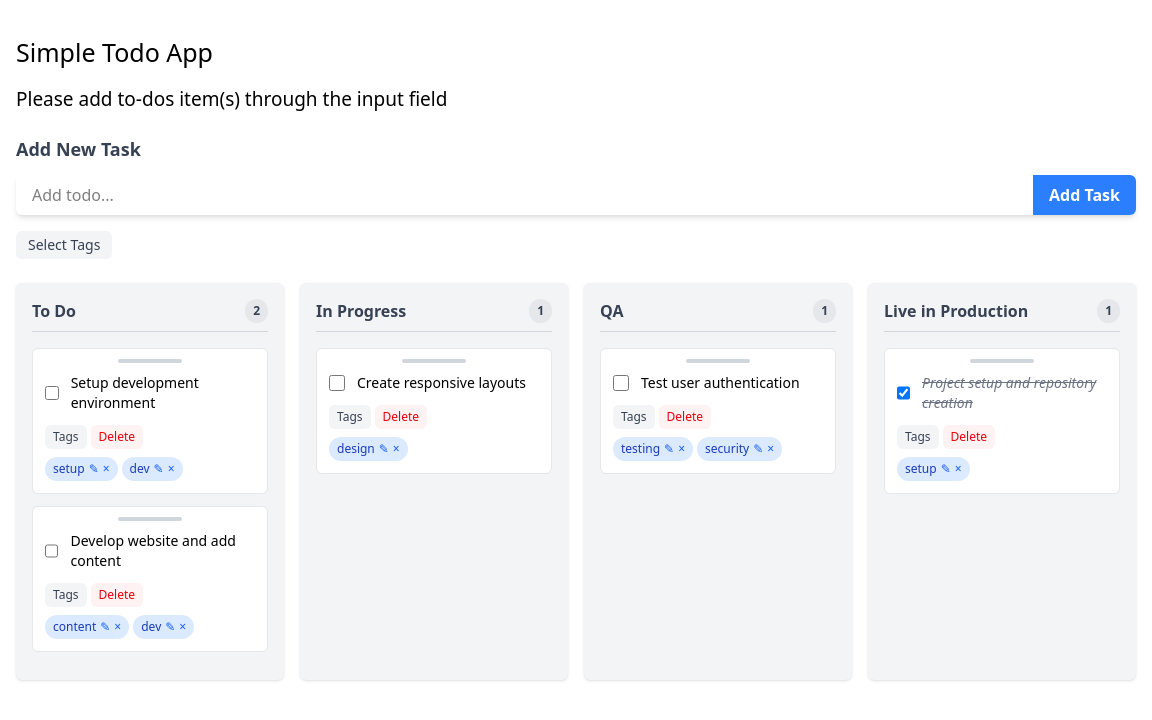
Scenario: Todo Kanban Board › should add a new tag to an existing task
Type "Task For Tag Testing" into the field with placeholder "Add todo...".
click(525, 195); type("Task For Tag Testing")  # box [16,175,1033,215]
Click the button "Add Task".
click(1085, 195)  # box [1033,175,1136,215]
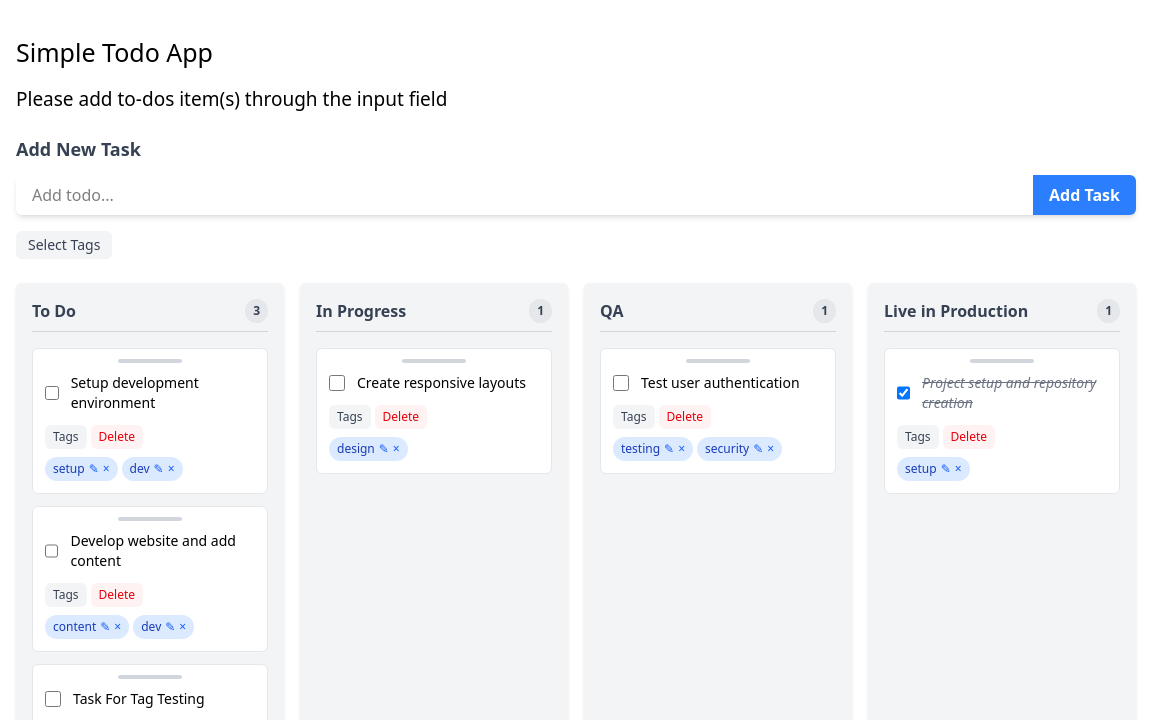
Scroll
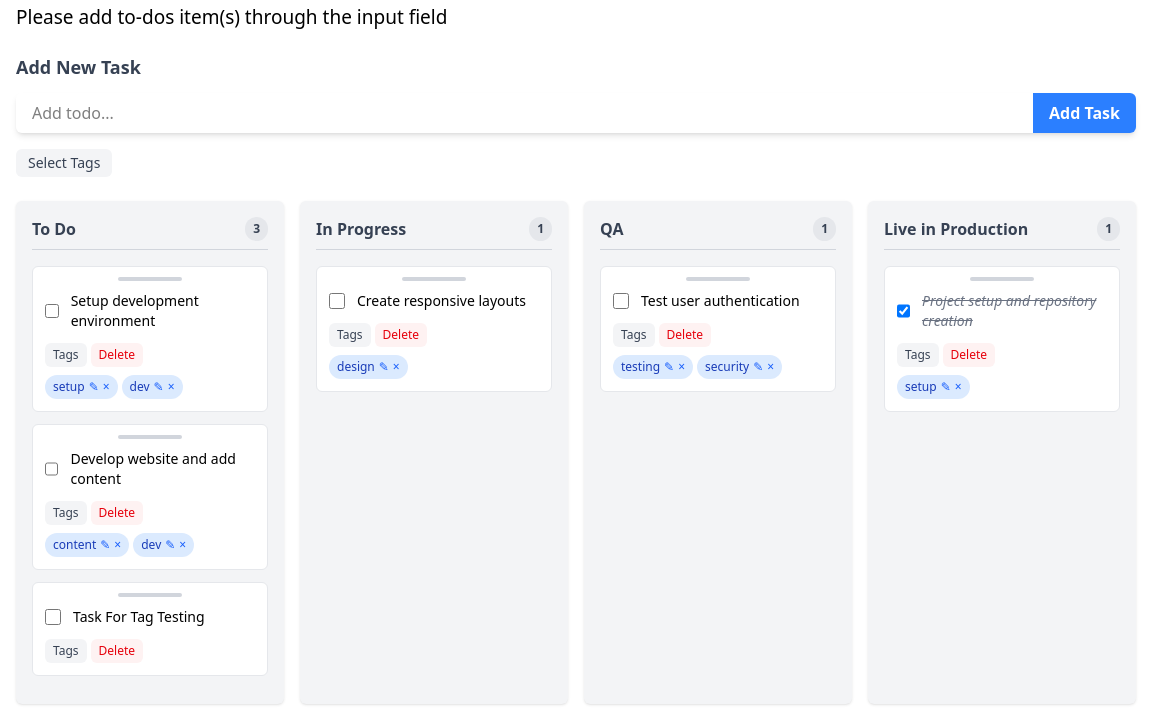
Click the button "Tags" below "Task For Tag Testing".
click(66, 651)  # box [45,639,87,663]
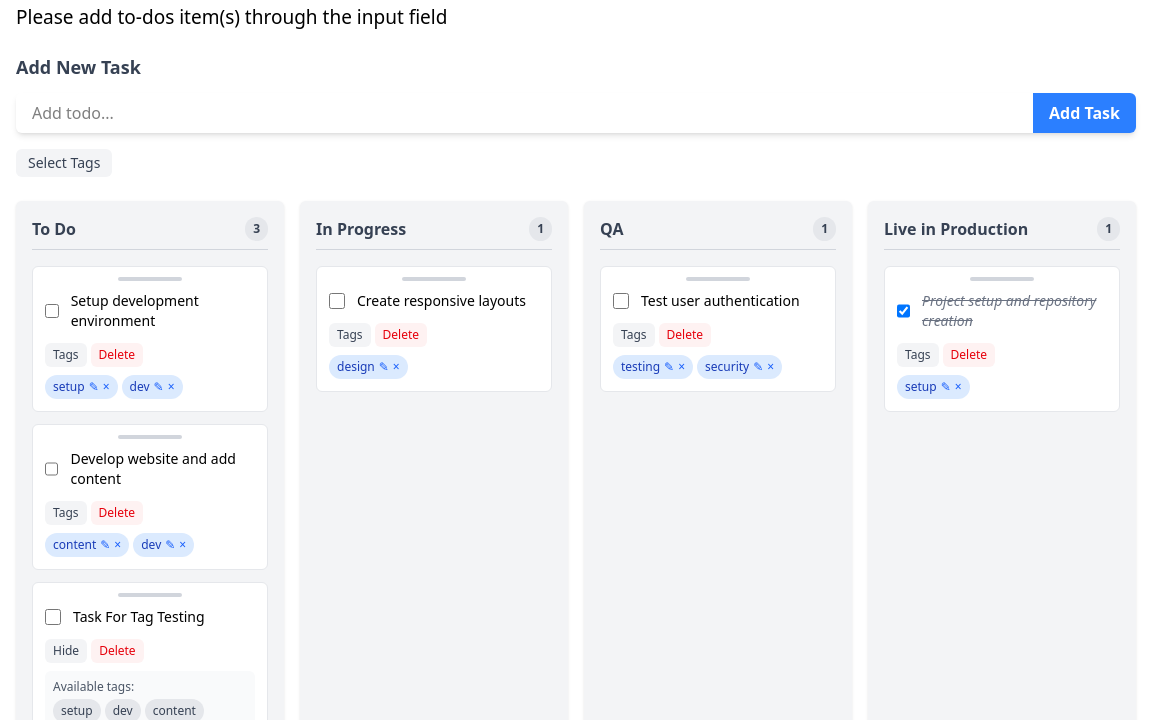
Scroll
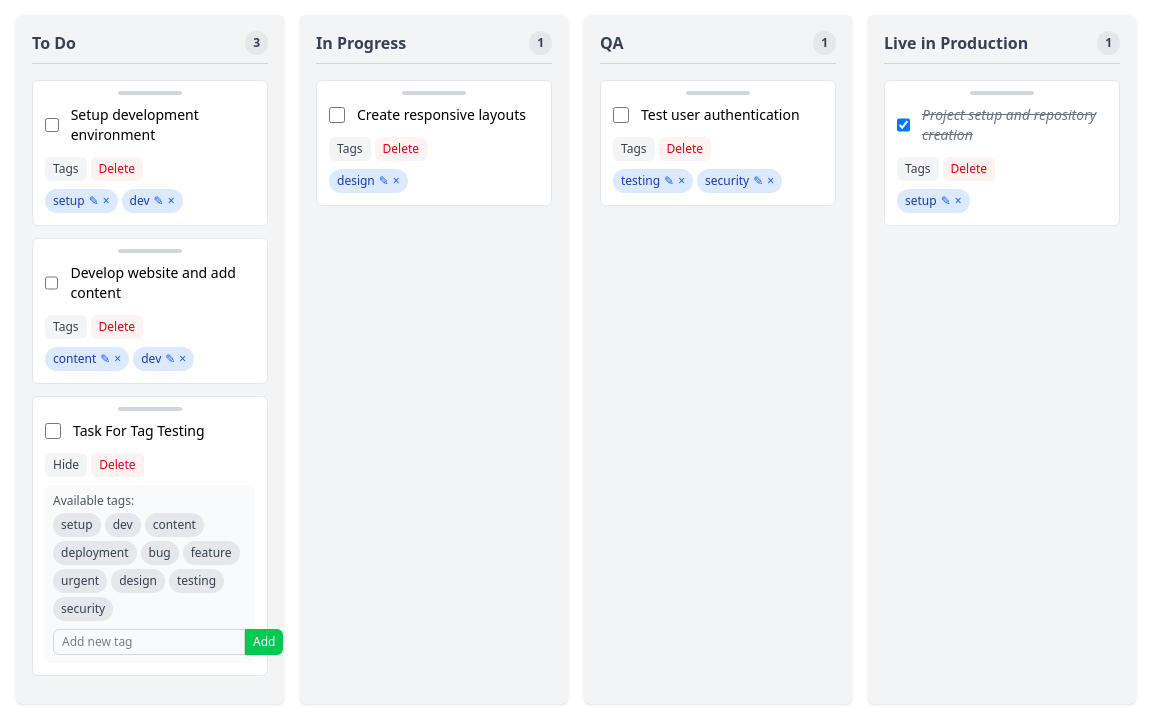
Type "cypress-test" into the field with placeholder "Add new tag".
click(149, 642); type("cypress-test")  # box [53,629,245,655]
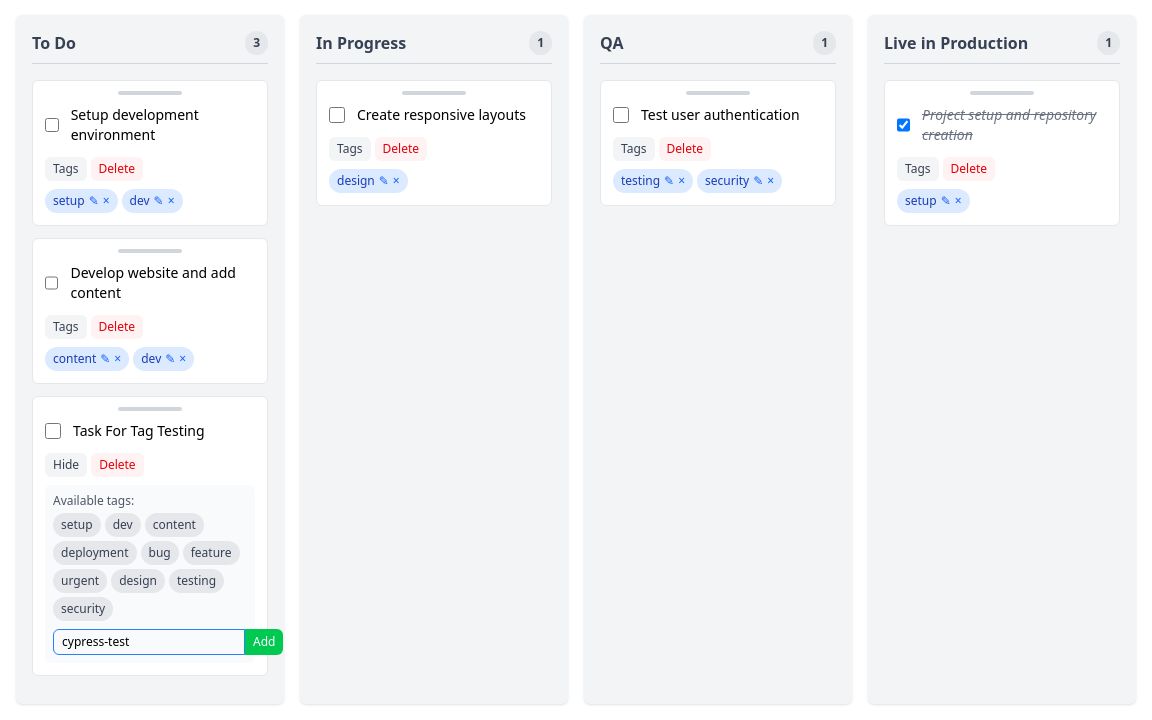
Click the button "Add".
click(264, 642)  # box [245,629,283,655]
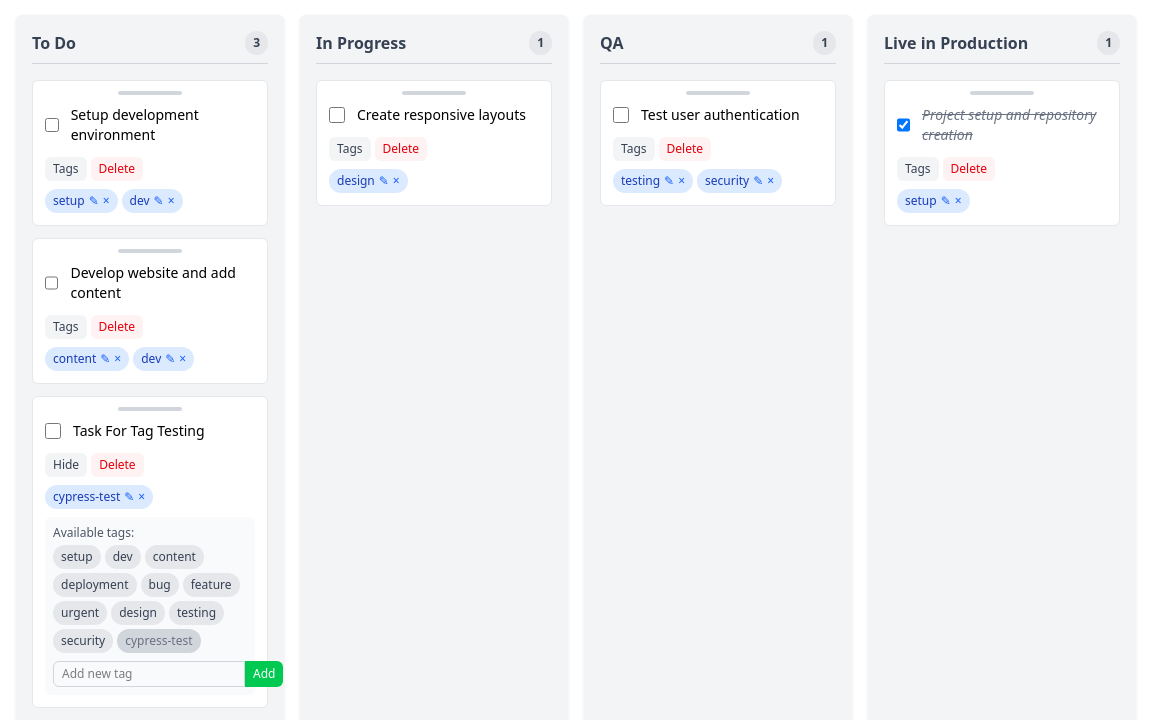
Expected: the text "cypress-test" is shown, [53,488,120,505]
